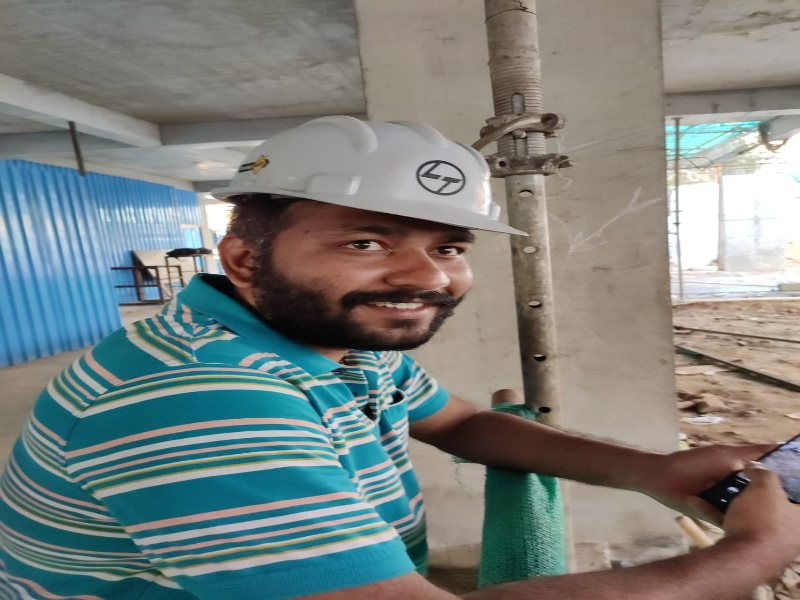Face: (205, 107, 526, 238)
